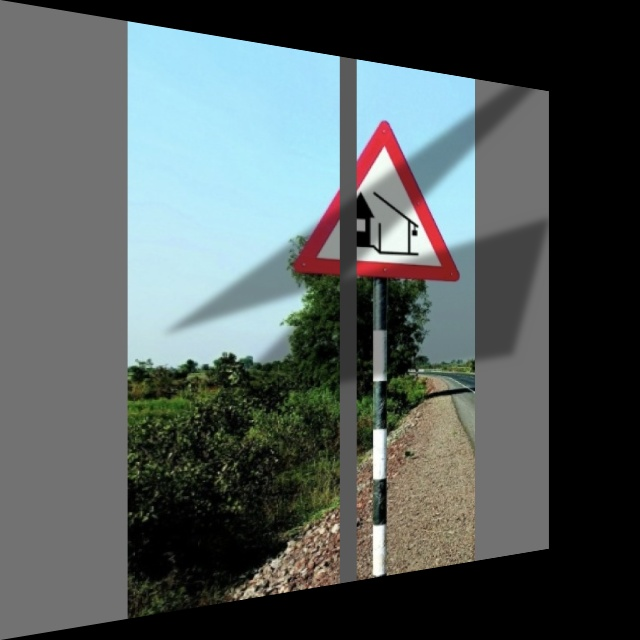Barrier_Ahead: (293, 108, 459, 291)
